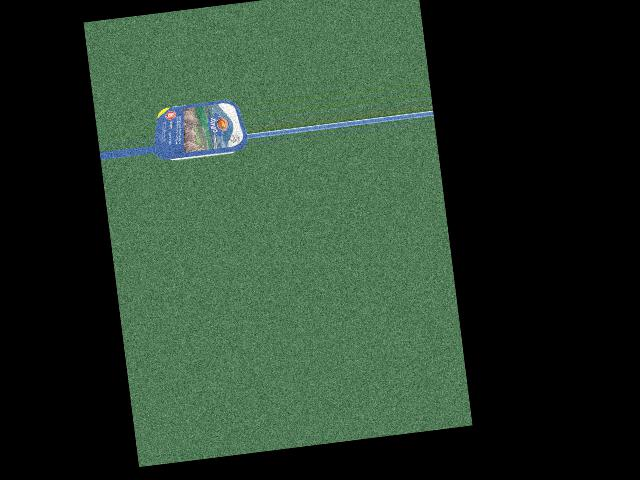cheese: (158, 96, 243, 168)
